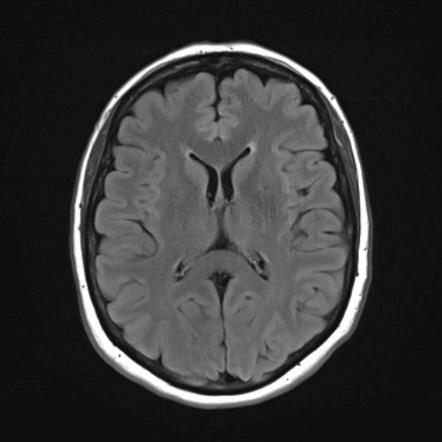Normal_Brain: (1, 1, 442, 442)
